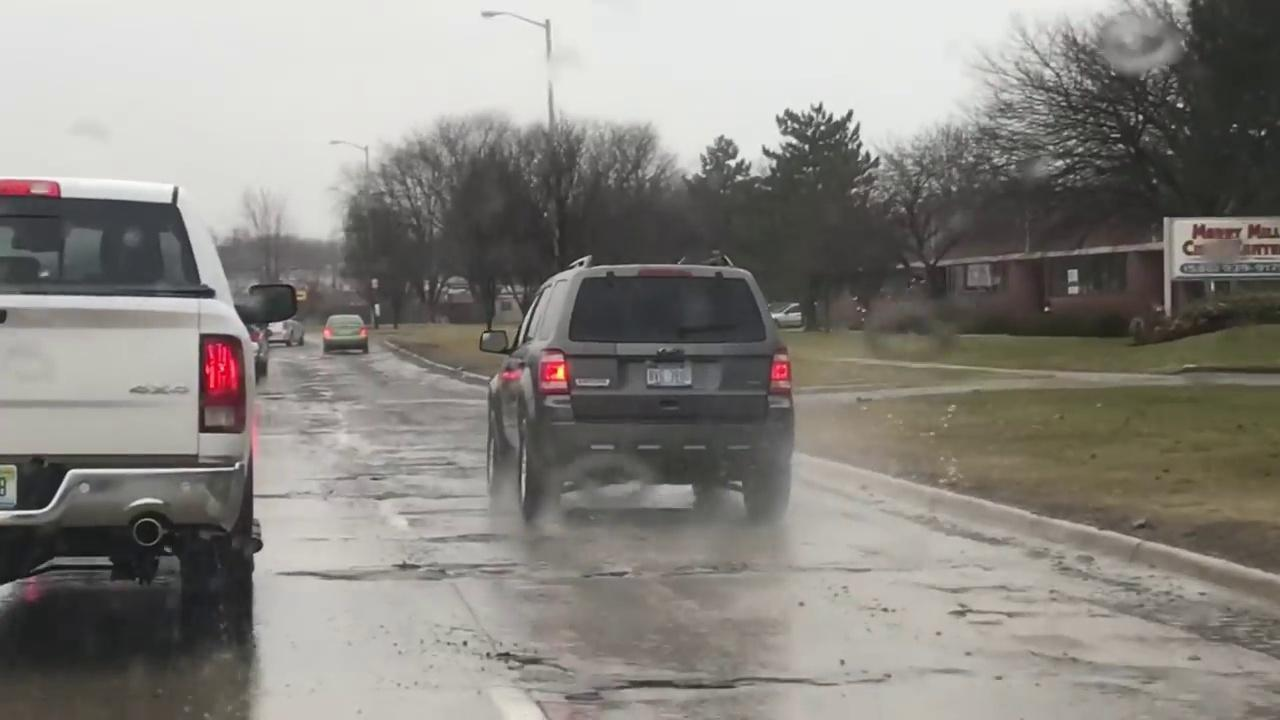pothole: (280, 559, 531, 585), (575, 674, 828, 693), (364, 489, 472, 499)
